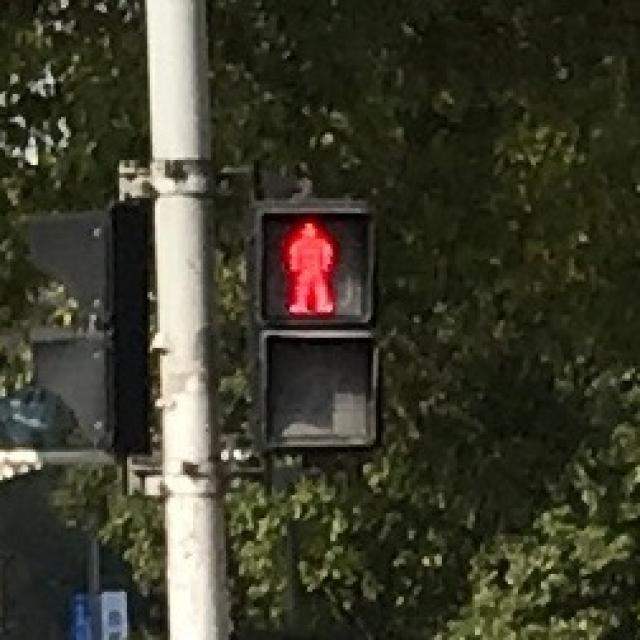red_light: (259, 206, 363, 320)
